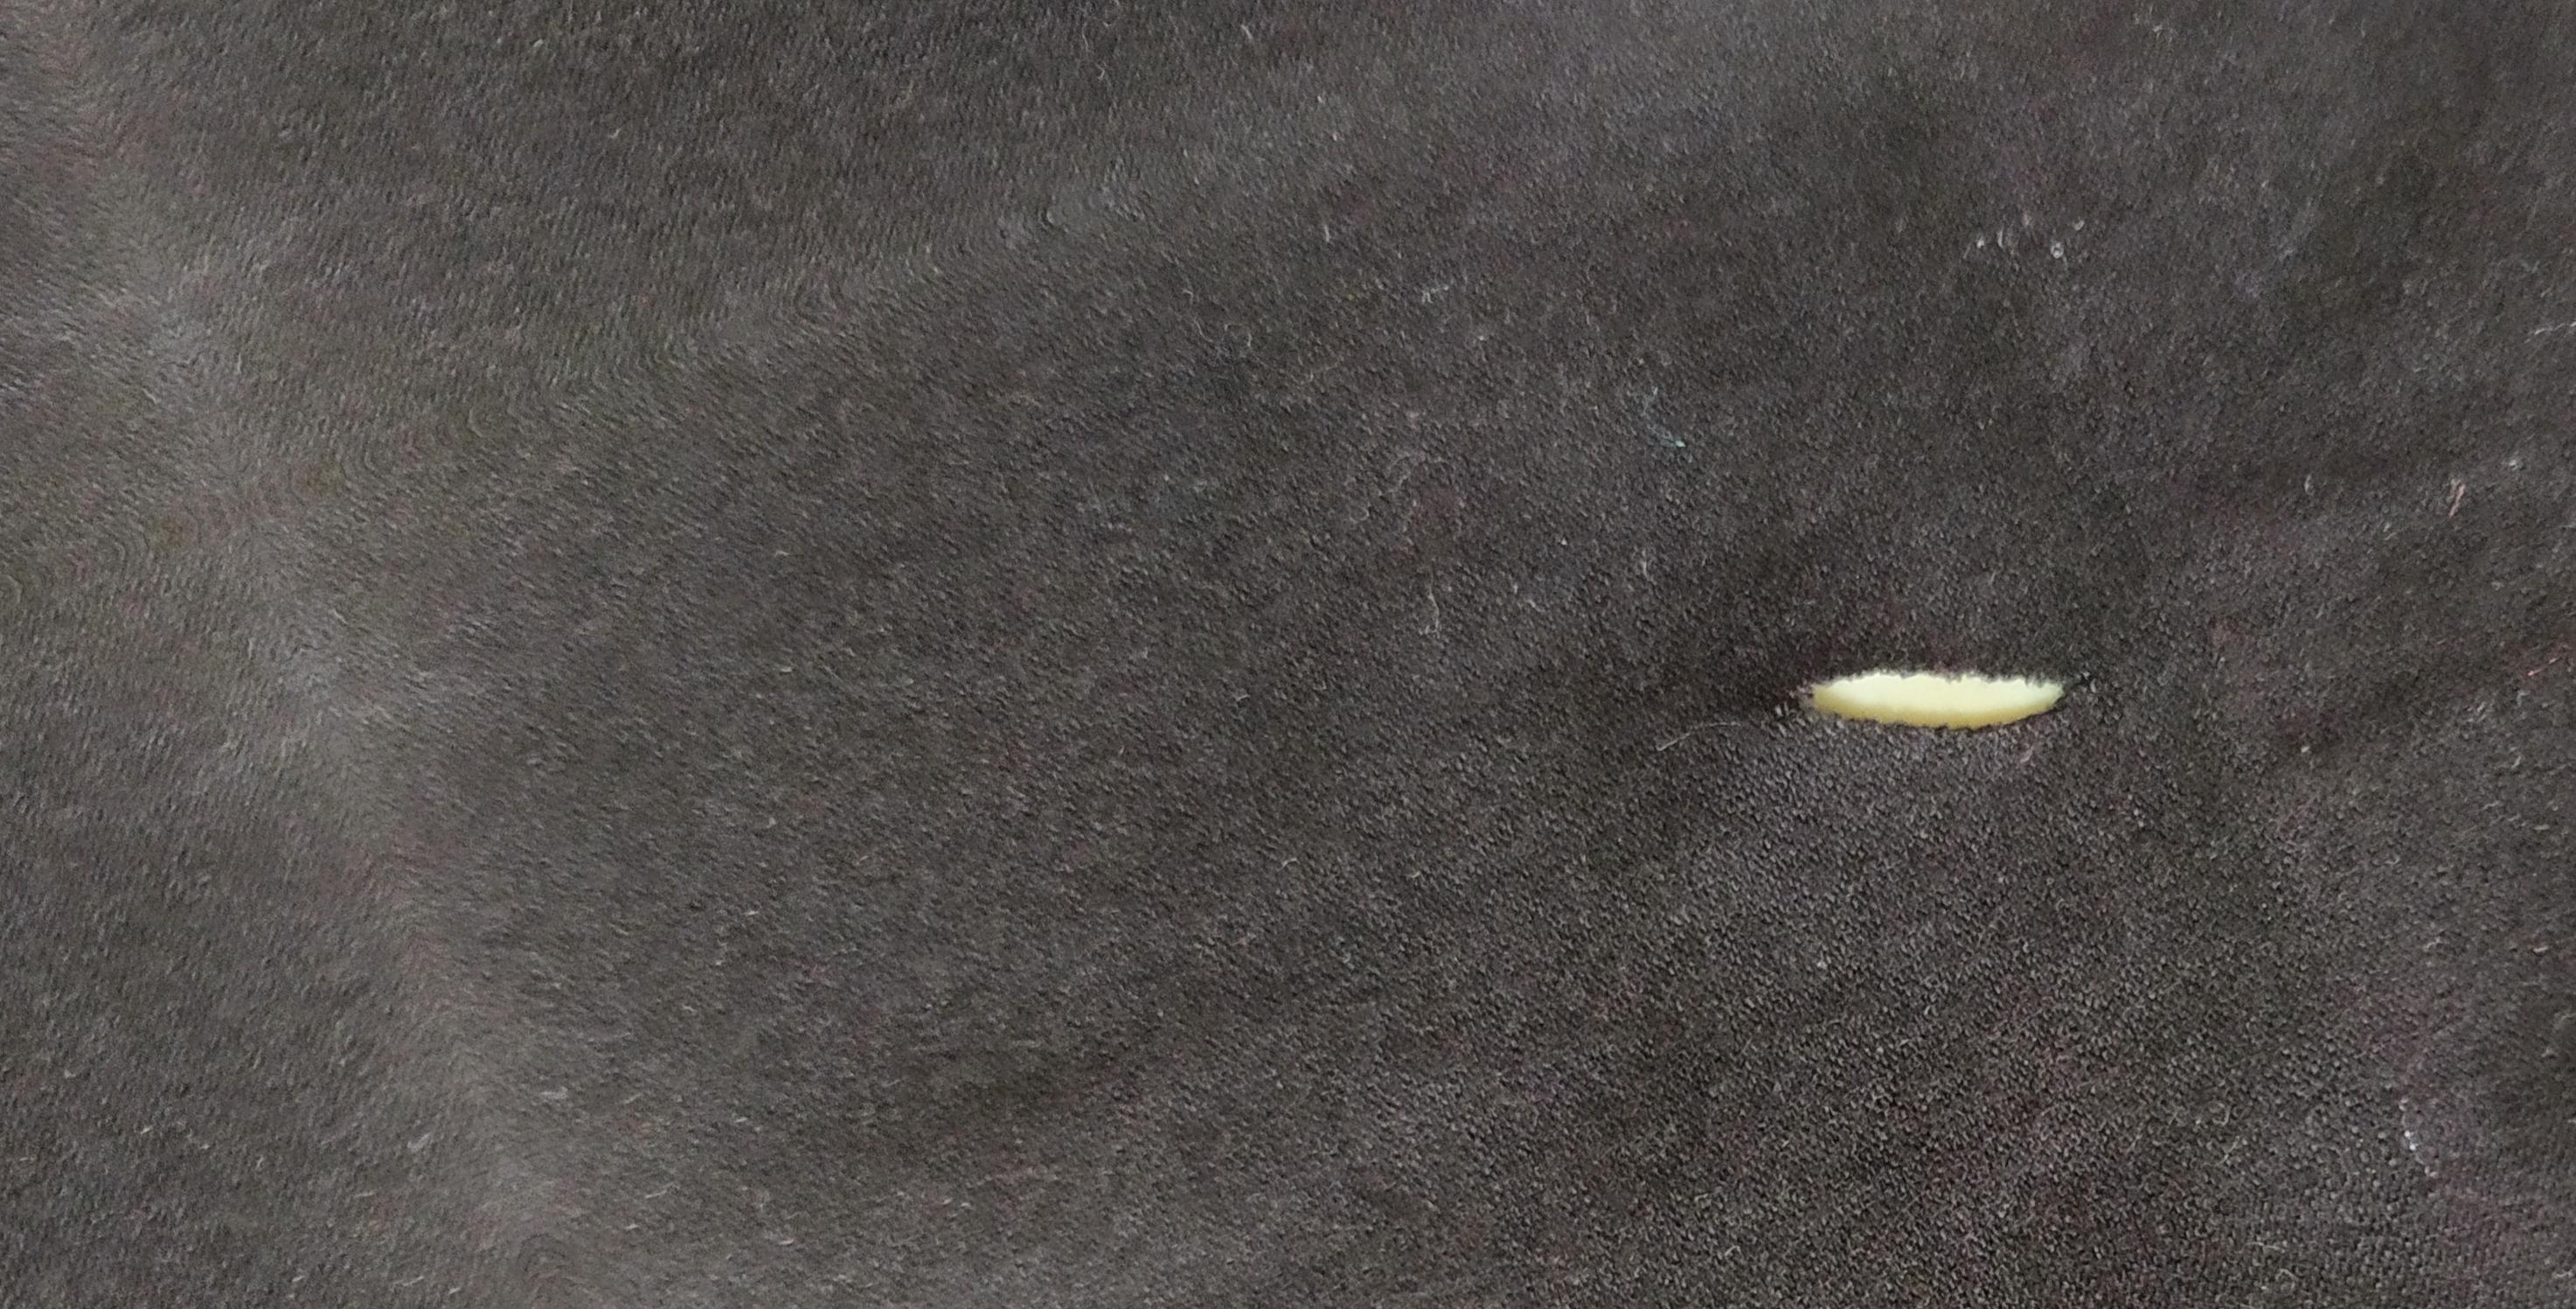hole: (1755, 638, 2090, 750)
